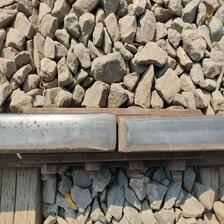railway-gap: (90, 106, 144, 159)
